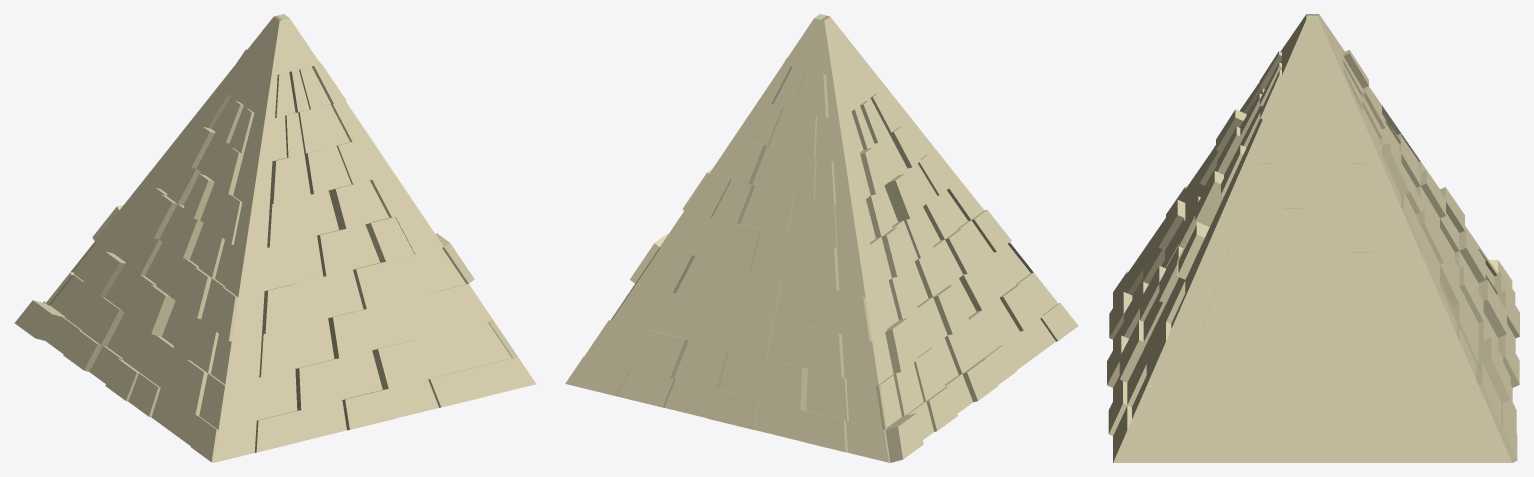
File: Piramide.fbx
3 views of the same model, side by side, from view 1: azimuth 30°, elevation 25°; view 2: azimuth 150°, elevation 25°; view 3: azimuth 270°, elevation 25° (orthographic). The views are drawn at different scales.
Visible parts, largest first — view 1: Cube; view 2: Cube; view 3: Cube.
Boxes of the visible parts, x1,y1,x2,y2 form: Cube: [14, 14, 535, 462]; Cube: [565, 14, 1078, 462]; Cube: [1107, 14, 1519, 462].
Size of the model in its own units: 423 by 401 by 414.
1 material, 1 textured.
